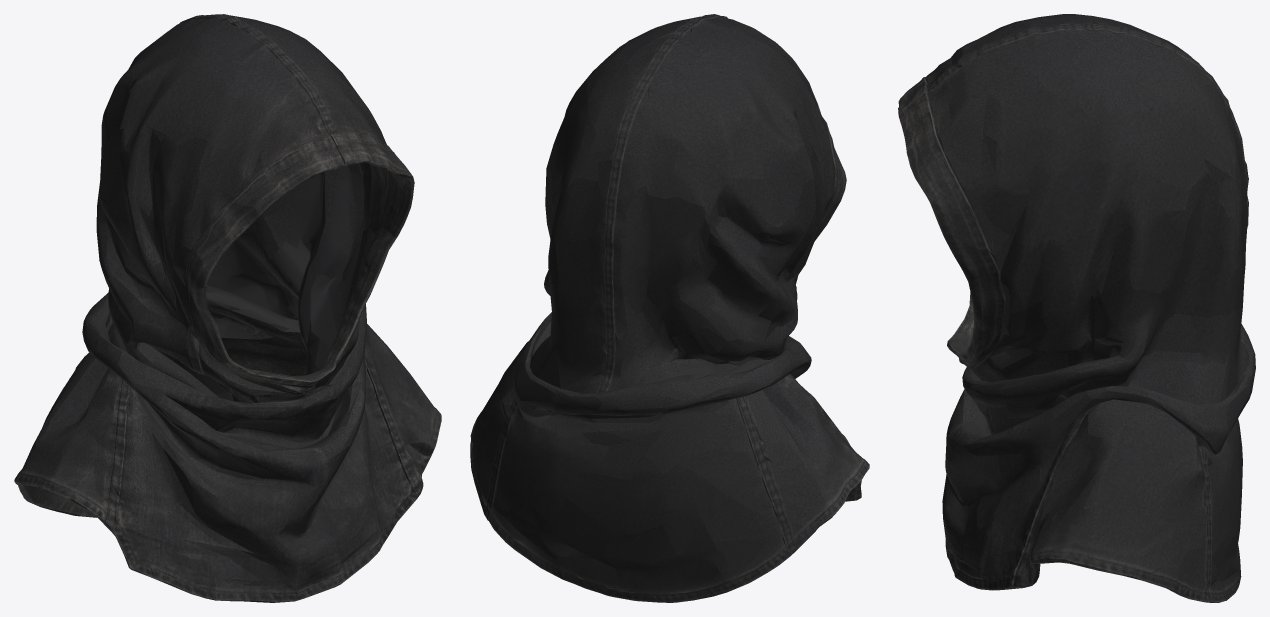
Rendered from acc_hood_image.glb.
The picture shows the model from 3 angles, left to right: view 1: azimuth 30°, elevation 25°; view 2: azimuth 150°, elevation 25°; view 3: azimuth 270°, elevation 25°; orthographic projection. The views are drawn at different scales.
Bounding box in the file's own units: 1.46 × 1.9 × 1.13.
1 material, 1 textured.
